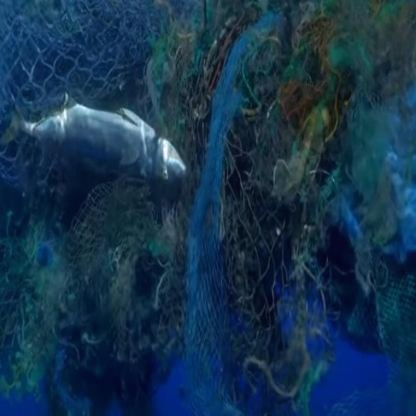net: (65, 30, 416, 361)
